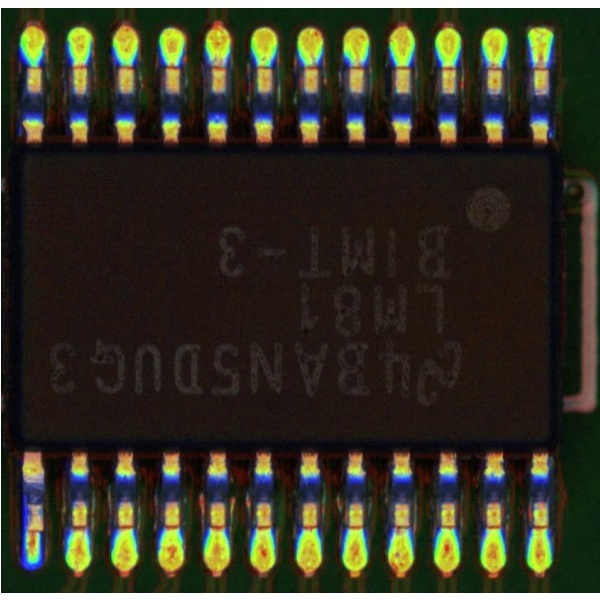Bad_podu: (256, 516, 268, 548), (394, 514, 406, 544), (208, 517, 221, 544), (534, 53, 545, 80), (27, 520, 38, 545)
